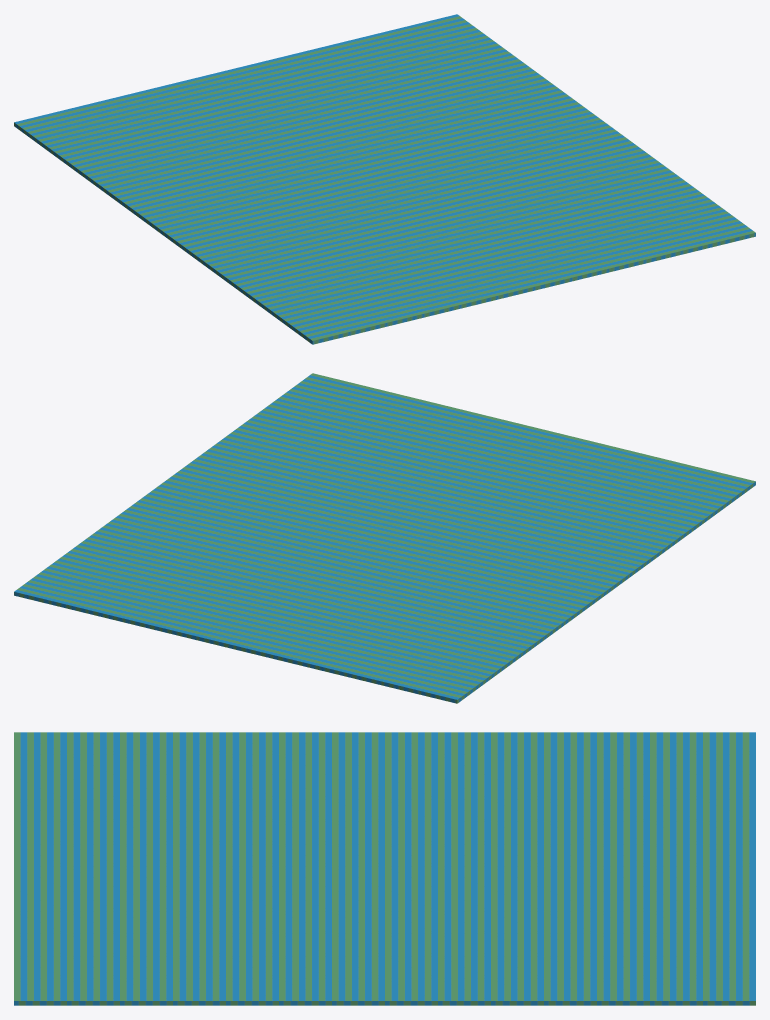
File: PisoP3.fbx
3 renders of one model, top to bottom at view 1: azimuth 30°, elevation 25°; view 2: azimuth 150°, elevation 25°; view 3: azimuth 270°, elevation 25°, orthographic. The views are drawn at different scales.
Parts seen in each view (by area): view 1: PisoP3; view 2: PisoP3; view 3: PisoP3.
Part boxes in pixels (x1=…): PisoP3: x1=14, y1=14, x2=755, y2=344; PisoP3: x1=14, y1=373, x2=755, y2=703; PisoP3: x1=14, y1=732, x2=755, y2=1005.
Bounding box in the file's own units: 6000 × 50 × 7000.
Materials: 1 (1 with a texture image).
